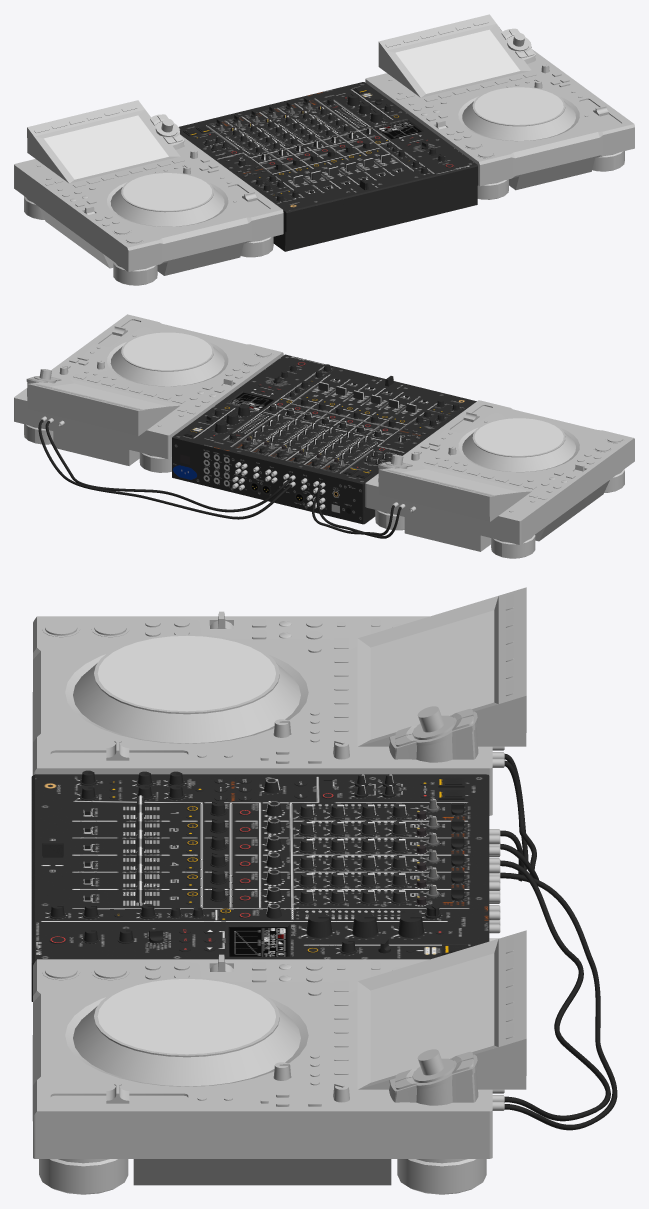
The model's file is Pack2.fbx.
The picture shows the model from 3 angles, top to bottom: view 1: azimuth 30°, elevation 25°; view 2: azimuth 150°, elevation 25°; view 3: azimuth 270°, elevation 25°; orthographic projection. The views are drawn at different scales.
Visible parts, largest first — view 1: DJM-V10, AudioLink; view 2: DJM-V10, Cables, AudioLink; view 3: DJM-V10, Cables, AudioLink.
Part boxes in pixels (x1=…): DJM-V10: x1=14, y1=14, x2=634, y2=285; AudioLink: x1=226, y1=108, x2=365, y2=154; DJM-V10: x1=14, y1=314, x2=634, y2=558; Cables: x1=38, y1=420, x2=401, y2=538; AudioLink: x1=237, y1=414, x2=377, y2=460; DJM-V10: x1=31, y1=587, x2=526, y2=1194; Cables: x1=500, y1=754, x2=617, y2=1130; AudioLink: x1=305, y1=804, x2=400, y2=919.
Bounding box in the file's own units: 104 × 13.6 × 51.8.
